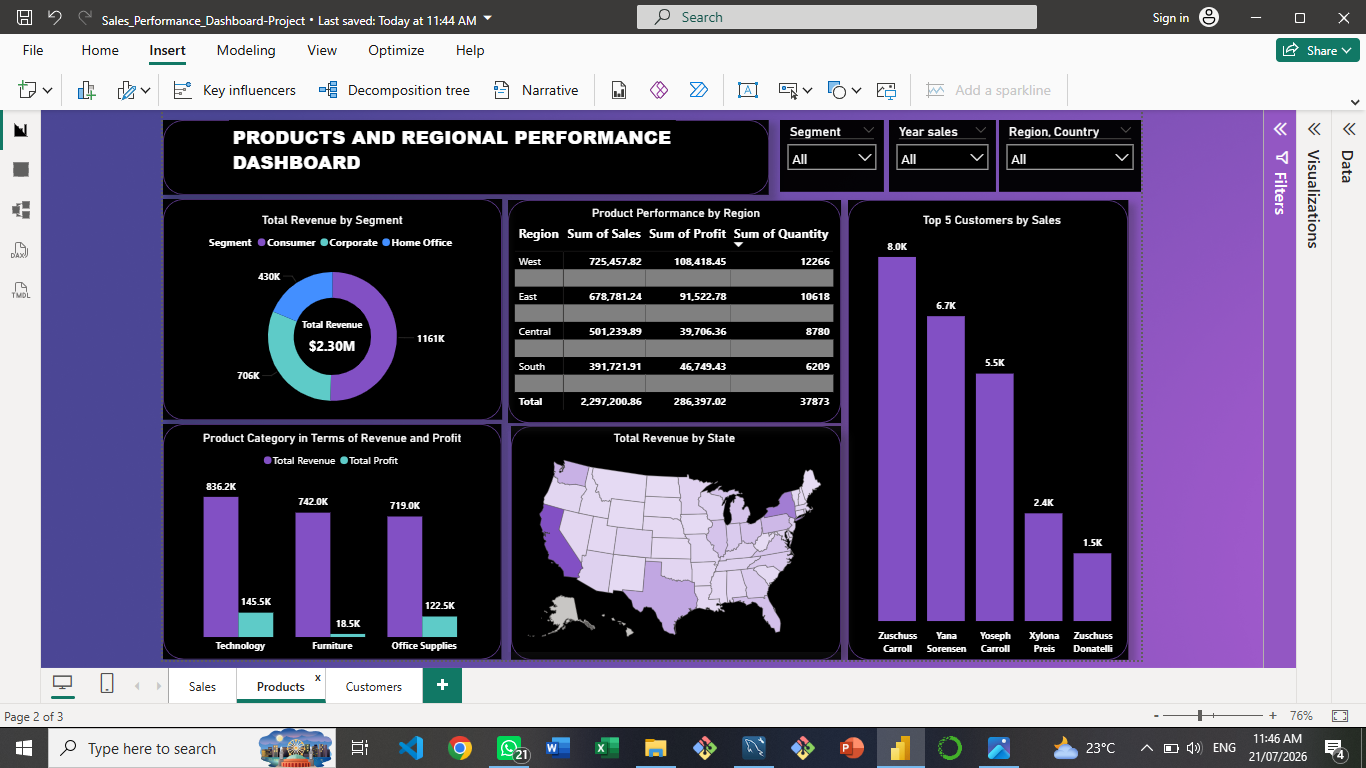

This screenshot's page, from the dashboard's own definition file:
{"tool":"powerbi","page":{"name":"Products","canvas":[1280,720],"ordinal":1},"visuals":[{"type":"shape","box":[0,13,793.4,97.9],"z":0},{"type":"shape","box":[455.6,413.7,432,306.3],"z":1000},{"type":"shape","box":[451.6,117.8,435.9,291.9],"z":2000},{"type":"shape","box":[896.7,117.8,383.6,602.2],"z":3000},{"type":"shape","box":[0,116.6,443.5,289.4],"z":4000},{"type":"shape","box":[0,411.5,443.2,308.3],"z":5000},{"type":"donutChart","fields":{"Y":["Order.Total Revenue"],"Category":["Order.Segment"]},"box":[0,135.4,443.5,276.5],"z":6000},{"type":"cardVisual","fields":{"Data":["Order.Total Revenue"]},"box":[158.3,246.4,126.6,99.1],"z":7000},{"type":"clusteredColumnChart","title":"Product Category in Terms of Revenue and Profit","fields":{"Category":["Order.Category"],"Y":["Order.Total Revenue","Order.Total Profit"]},"box":[0,419.8,443.2,300],"z":8000},{"type":"clusteredColumnChart","title":"Top 5 Customers by Sales","fields":{"Y":["Order.Total Revenue"],"Category":["Order.Customer Name"]},"box":[896.7,134.8,377,585.2],"z":9000},{"type":"slicer","fields":{"Values":["Order.Segment"]},"box":[807.7,13.1,136.1,94.3],"z":10000},{"type":"slicer","fields":{"Values":["Order.Year sales"]},"box":[950.4,13.1,140.1,94.3],"z":11000},{"type":"slicer","fields":{"Values":["Order.Region","Order.Country"]},"box":[1094.1,13.1,185.9,94.3],"z":12000},{"type":"pivotTable","title":"Product Performance by Region","fields":{"Rows":["Order.Region"],"Values":["Sum(Order.Sales)","Sum(Order.Profit)","Sum(Order.Quantity)"]},"box":[455.6,120.4,432,289.3],"z":13000},{"type":"shapeMap","fields":{"Category":["Order.State"],"Value":["Order.Total Revenue"]},"box":[451.6,420.2,435.9,289.3],"z":14000},{"type":"textbox","box":[86.4,13,584.6,93.6],"z":15000}]}

Visuals, with their boxes on the page's 1280x720 design canvas (x1, y1, x2, y2). These are canvas units, not pixel positions in the 1366x768 screenshot, which may show the page scaled, cropped or inside an application window:
shape: (0, 13, 793, 111)
shape: (456, 414, 888, 720)
shape: (452, 118, 888, 410)
shape: (897, 118, 1280, 720)
shape: (0, 117, 444, 406)
shape: (0, 412, 443, 720)
donutChart - Order.Total Revenue x Order.Segment: (0, 135, 444, 412)
cardVisual - Order.Total Revenue: (158, 246, 285, 346)
"Product Category in Terms of Revenue and Profit" clusteredColumnChart: (0, 420, 443, 720)
"Top 5 Customers by Sales" clusteredColumnChart: (897, 135, 1274, 720)
slicer - Order.Segment: (808, 13, 944, 107)
slicer - Order.Year sales: (950, 13, 1090, 107)
slicer - Order.Region x Order.Country: (1094, 13, 1280, 107)
"Product Performance by Region" pivotTable: (456, 120, 888, 410)
shapeMap - Order.State x Order.Total Revenue: (452, 420, 888, 710)
textbox: (86, 13, 671, 107)
